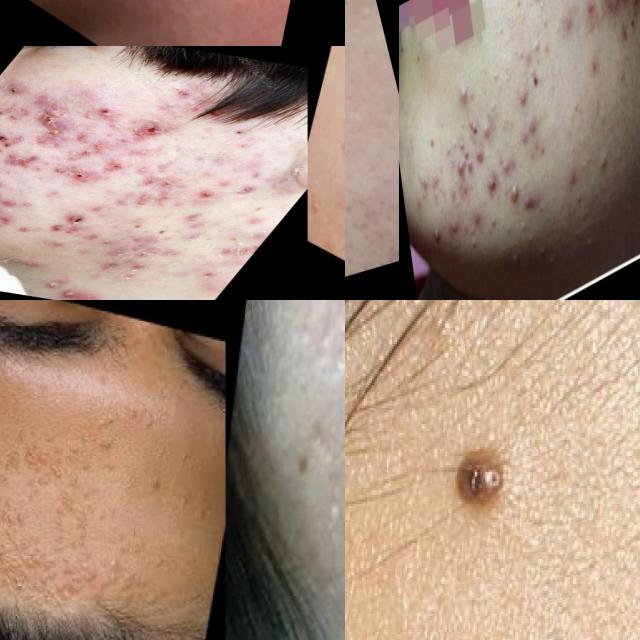acne_scars: (112, 177, 205, 220), (100, 230, 172, 263), (31, 206, 96, 239), (0, 148, 53, 179), (0, 174, 42, 208), (0, 195, 34, 227), (603, 0, 639, 22)
comedone: (450, 449, 510, 516), (308, 300, 345, 391), (304, 395, 338, 459), (317, 486, 345, 541), (480, 98, 502, 150), (566, 91, 588, 123), (595, 146, 613, 184), (443, 130, 466, 159), (572, 185, 591, 220), (490, 59, 506, 100), (552, 4, 567, 37), (417, 168, 432, 201), (510, 0, 528, 23), (529, 31, 543, 57), (468, 224, 479, 254), (535, 236, 547, 262), (431, 184, 444, 208), (549, 247, 562, 270), (526, 224, 537, 248), (519, 214, 532, 230), (537, 0, 547, 18), (511, 249, 520, 268)
flat_wart: (48, 543, 134, 624), (0, 492, 60, 568), (1, 438, 75, 493)
papule: (518, 181, 541, 218), (484, 163, 501, 202), (524, 112, 546, 142), (513, 82, 533, 111), (563, 162, 579, 192), (454, 159, 470, 188), (484, 208, 500, 236), (582, 0, 602, 22), (447, 212, 462, 241), (427, 164, 442, 193), (499, 149, 514, 177), (470, 204, 484, 233), (476, 145, 485, 176)
pustule: (452, 76, 473, 113), (506, 177, 524, 208), (429, 220, 443, 248)
sebo-crystan-conglo: (5, 96, 100, 143), (44, 286, 89, 300), (89, 105, 120, 125)
